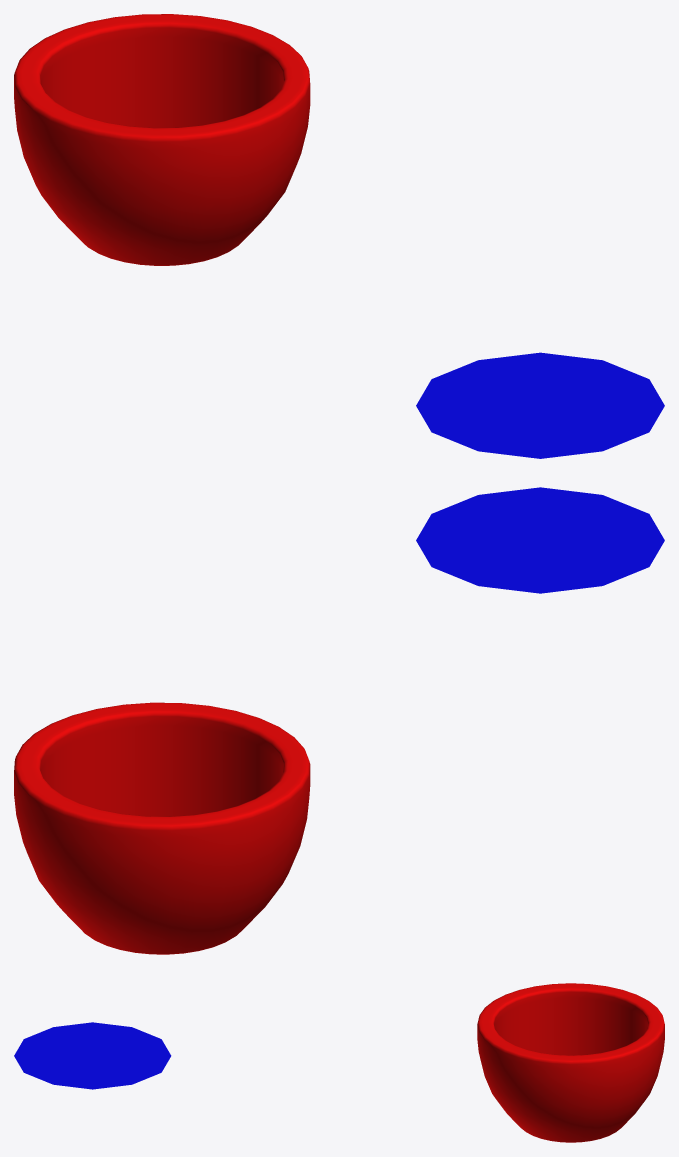
File: reis_high_explosion.fbx
3 views of the same model, one above another, from view 1: azimuth 30°, elevation 25°; view 2: azimuth 150°, elevation 25°; view 3: azimuth 270°, elevation 25° (orthographic). The views are drawn at different scales.
Parts seen in each view (by area): view 1: pPipe1, pCylinder2; view 2: pPipe1, pCylinder2; view 3: pPipe1, pCylinder2.
Boxes of the visible parts, <box> form: pPipe1: <box>14,14,310,265</box>; pCylinder2: <box>416,352,664,458</box>; pPipe1: <box>14,702,310,954</box>; pCylinder2: <box>416,487,664,593</box>; pPipe1: <box>477,983,664,1142</box>; pCylinder2: <box>14,1022,171,1089</box>.
Bounding box in the file's own units: 1.96 × 1.14 × 6.8.
